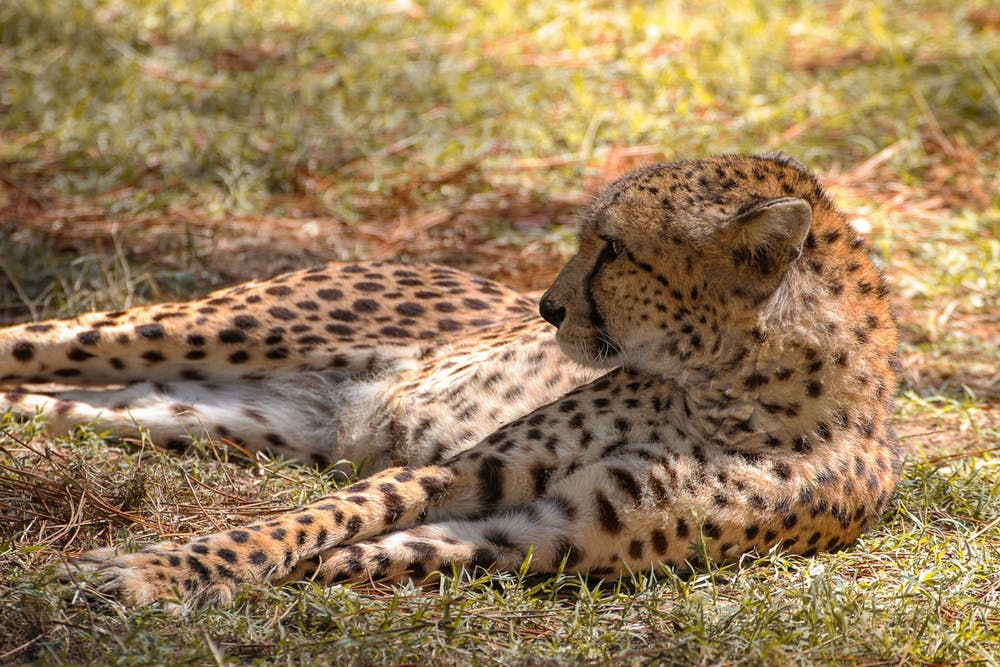cheetah: (523, 142, 889, 385)
